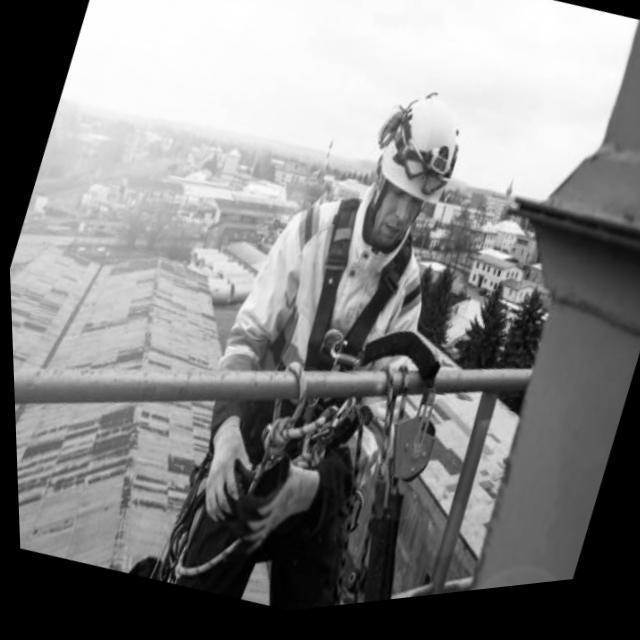Harness: (306, 199, 441, 388)
